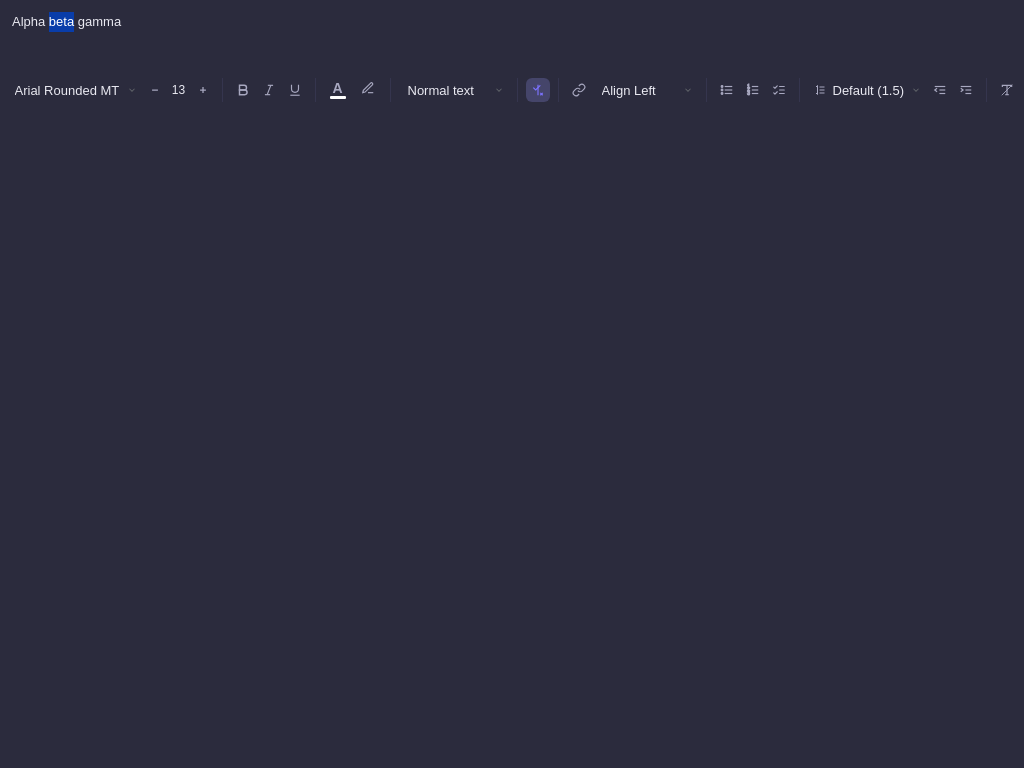
Test: Insert Link from the toolbar › Enter and Escape don't reach window key handlers (a board's Enter renames the selected tile)
This screenshot has width=1024, height=768.
Click the button named "Insert Link (Ctrl+K)": click(578, 90) [566, 78, 590, 102]
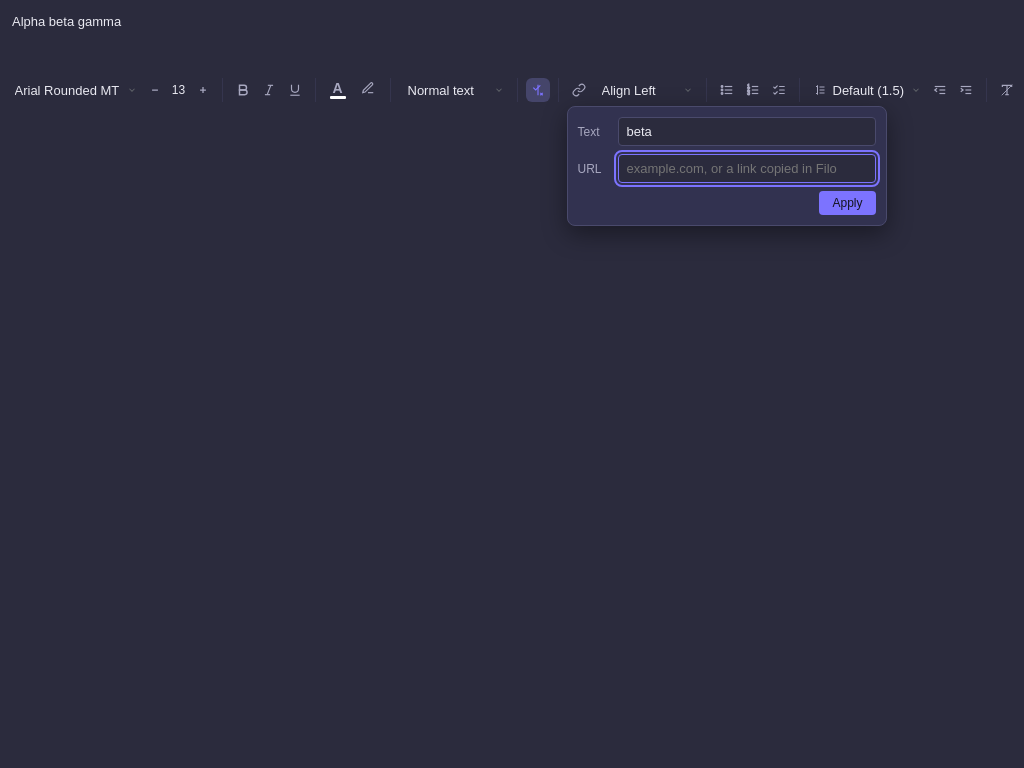
In the field labelled "URL": (746, 168) [618, 154, 876, 183], type "example.com"
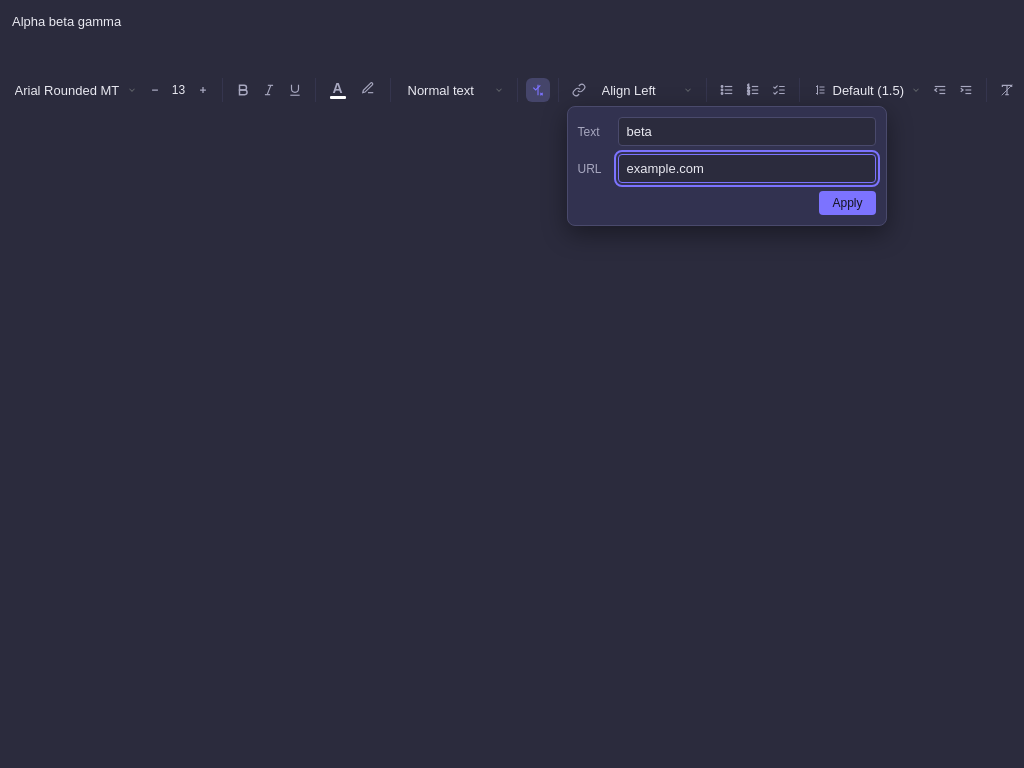
Press Enter in the field labelled "URL", box [618, 154, 876, 183]
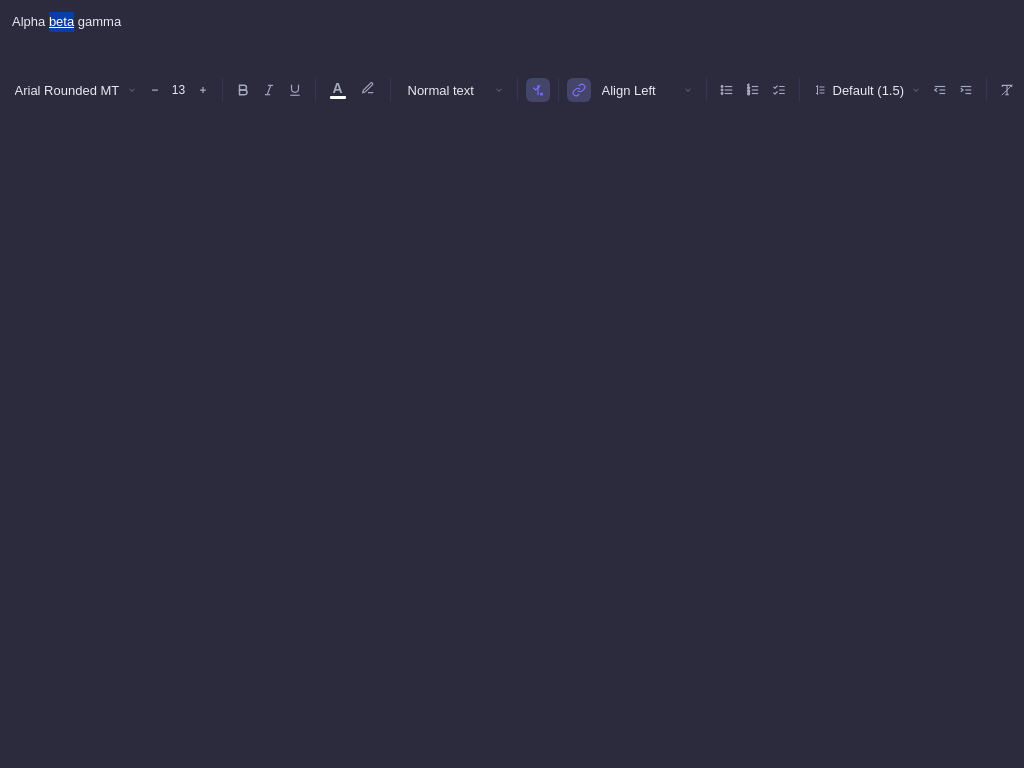
Click the button named "Edit Link (Ctrl+K)": click(578, 90) [566, 78, 590, 102]
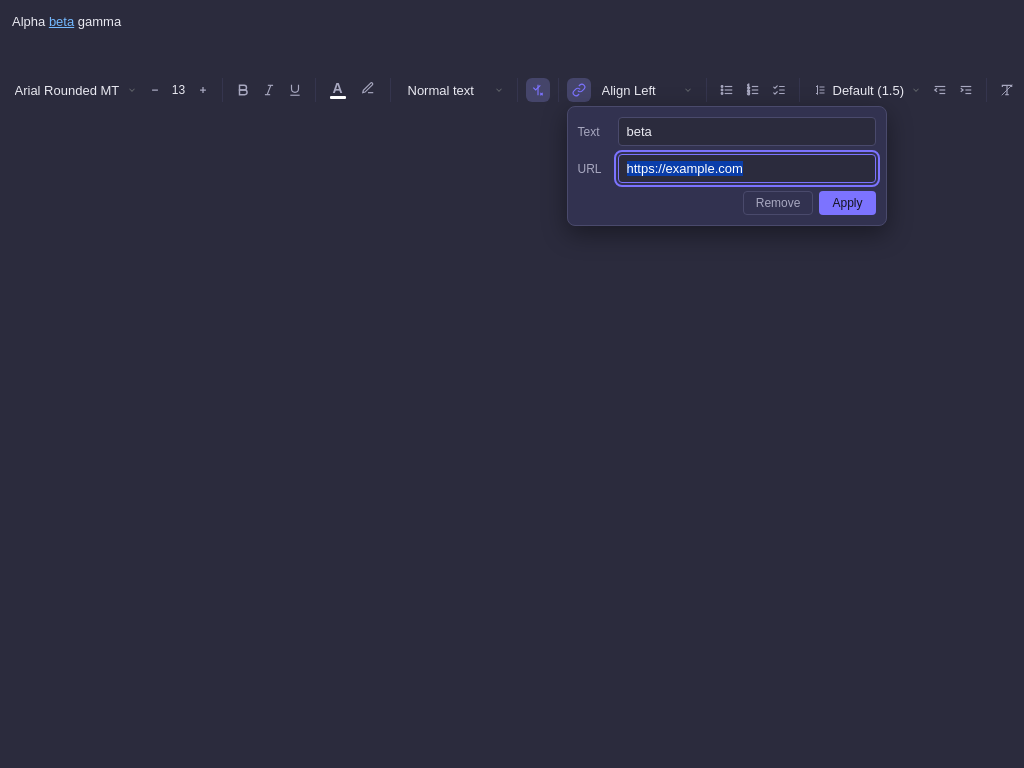
Press Escape in the field labelled "URL", box [618, 154, 876, 183]
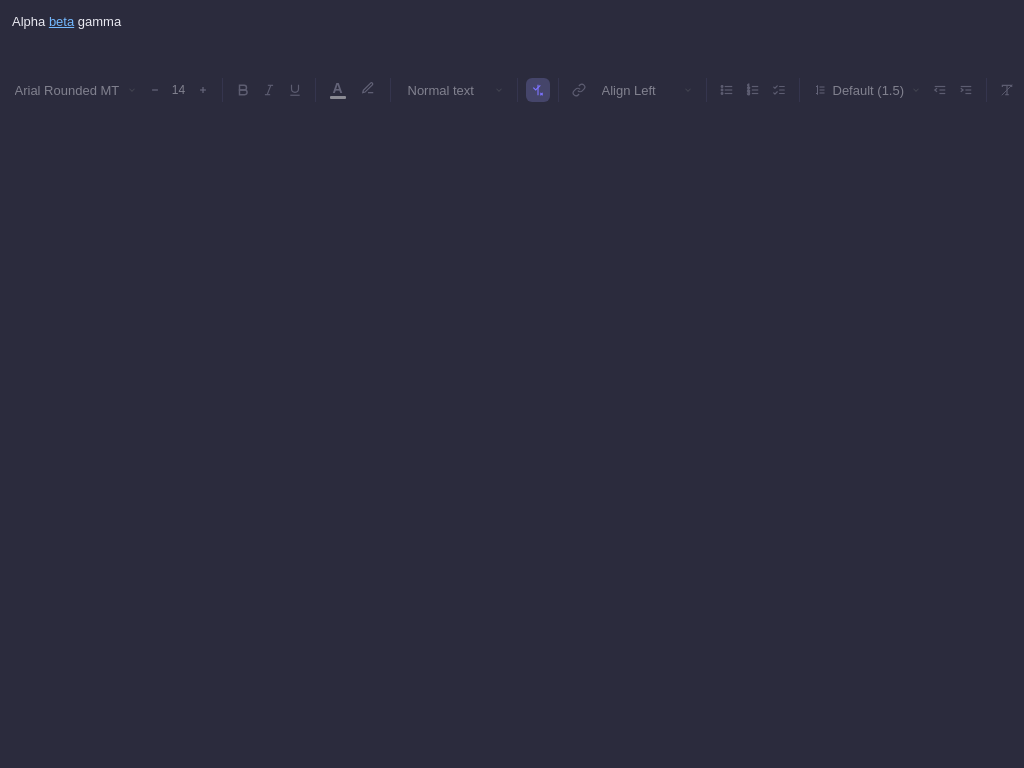
Now the dialog with class "link-popup" is gone
